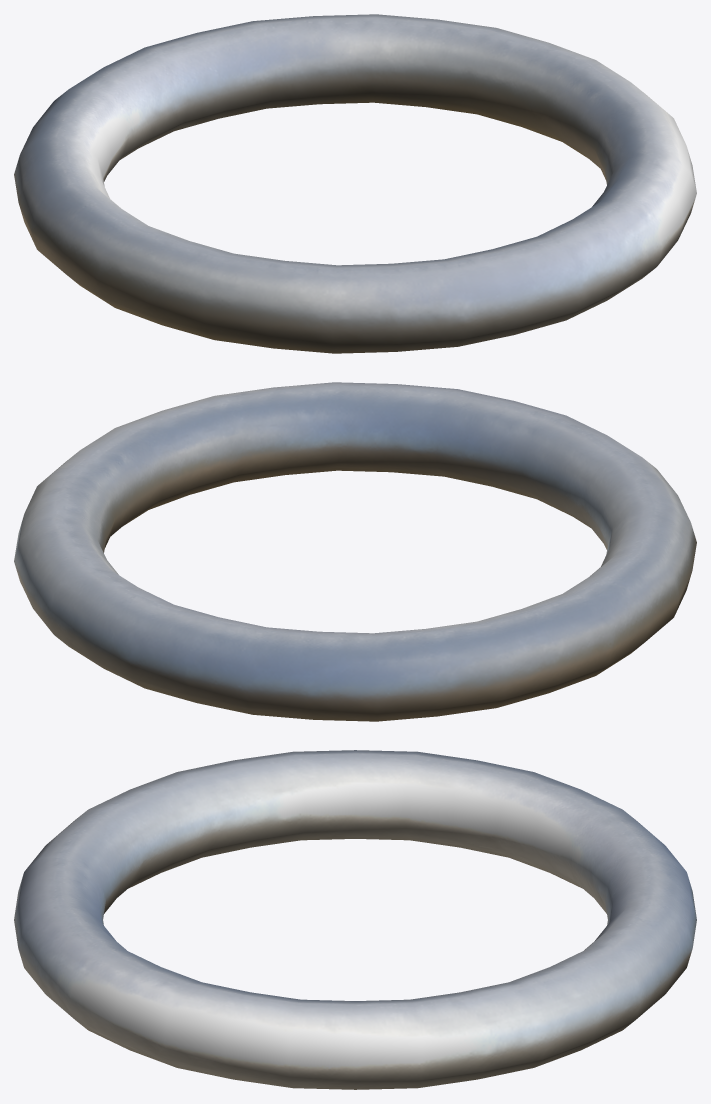
File: White_Ring.fbx
The picture shows the model from 3 angles, top to bottom: view 1: azimuth 30°, elevation 25°; view 2: azimuth 150°, elevation 25°; view 3: azimuth 270°, elevation 25°; orthographic projection.
Visible parts, largest first — view 1: Torus001; view 2: Torus001; view 3: Torus001.
Part boxes in pixels (x1,y1,x2,y2): Torus001: [14, 14, 696, 353]; Torus001: [14, 382, 696, 721]; Torus001: [14, 750, 696, 1089].
Bounding box in the file's own units: 23 × 3 × 23.
Materials: 1 (1 with a texture image).
